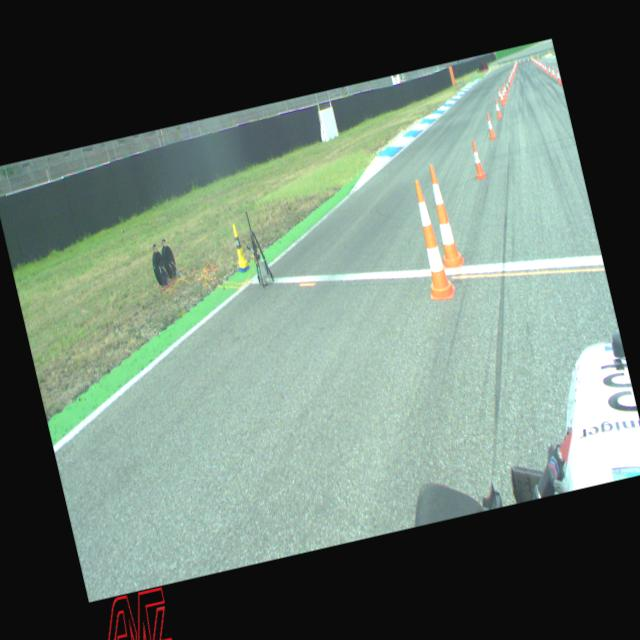large_orange_cone: (404, 176, 456, 302), (420, 162, 466, 270)
orange_cone: (468, 140, 486, 179), (484, 112, 496, 138), (493, 98, 503, 119), (498, 90, 506, 106), (554, 69, 561, 83), (502, 84, 508, 96), (504, 78, 510, 90), (550, 66, 556, 78), (501, 86, 506, 100), (497, 88, 502, 101), (507, 74, 512, 86), (547, 64, 552, 75), (508, 72, 512, 82), (558, 75, 562, 85), (544, 63, 548, 73), (541, 62, 545, 71)
yellow_cone: (228, 222, 249, 269)
